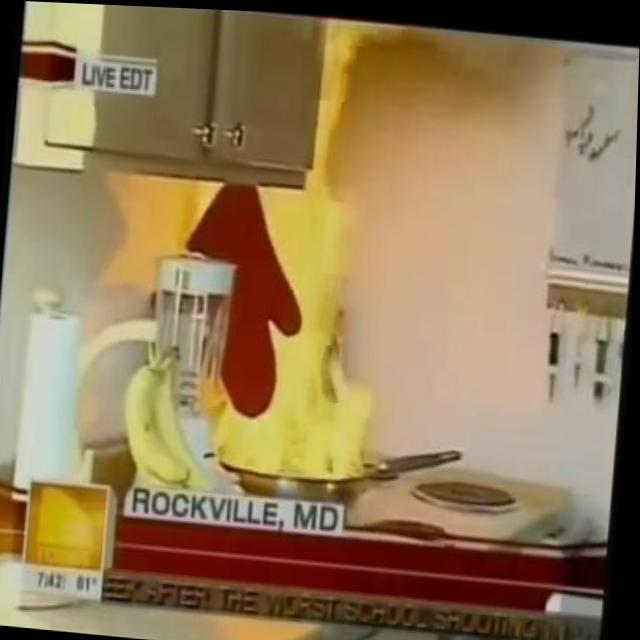fire: (222, 180, 400, 487)
